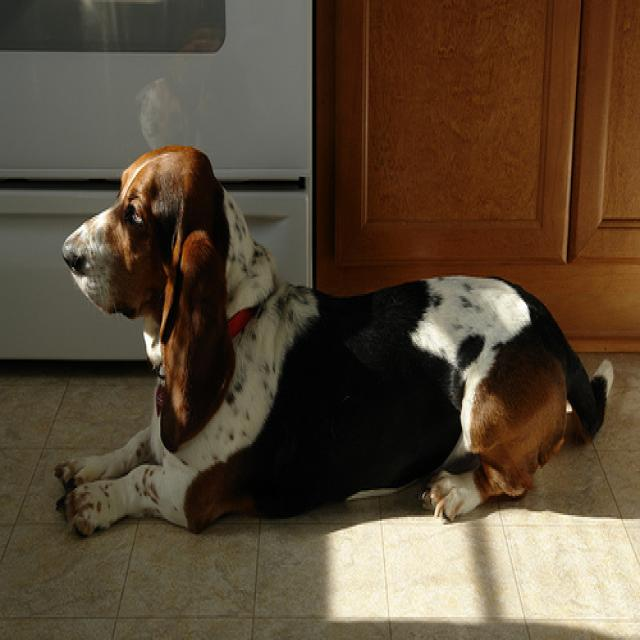dog: (60, 144, 234, 450)
